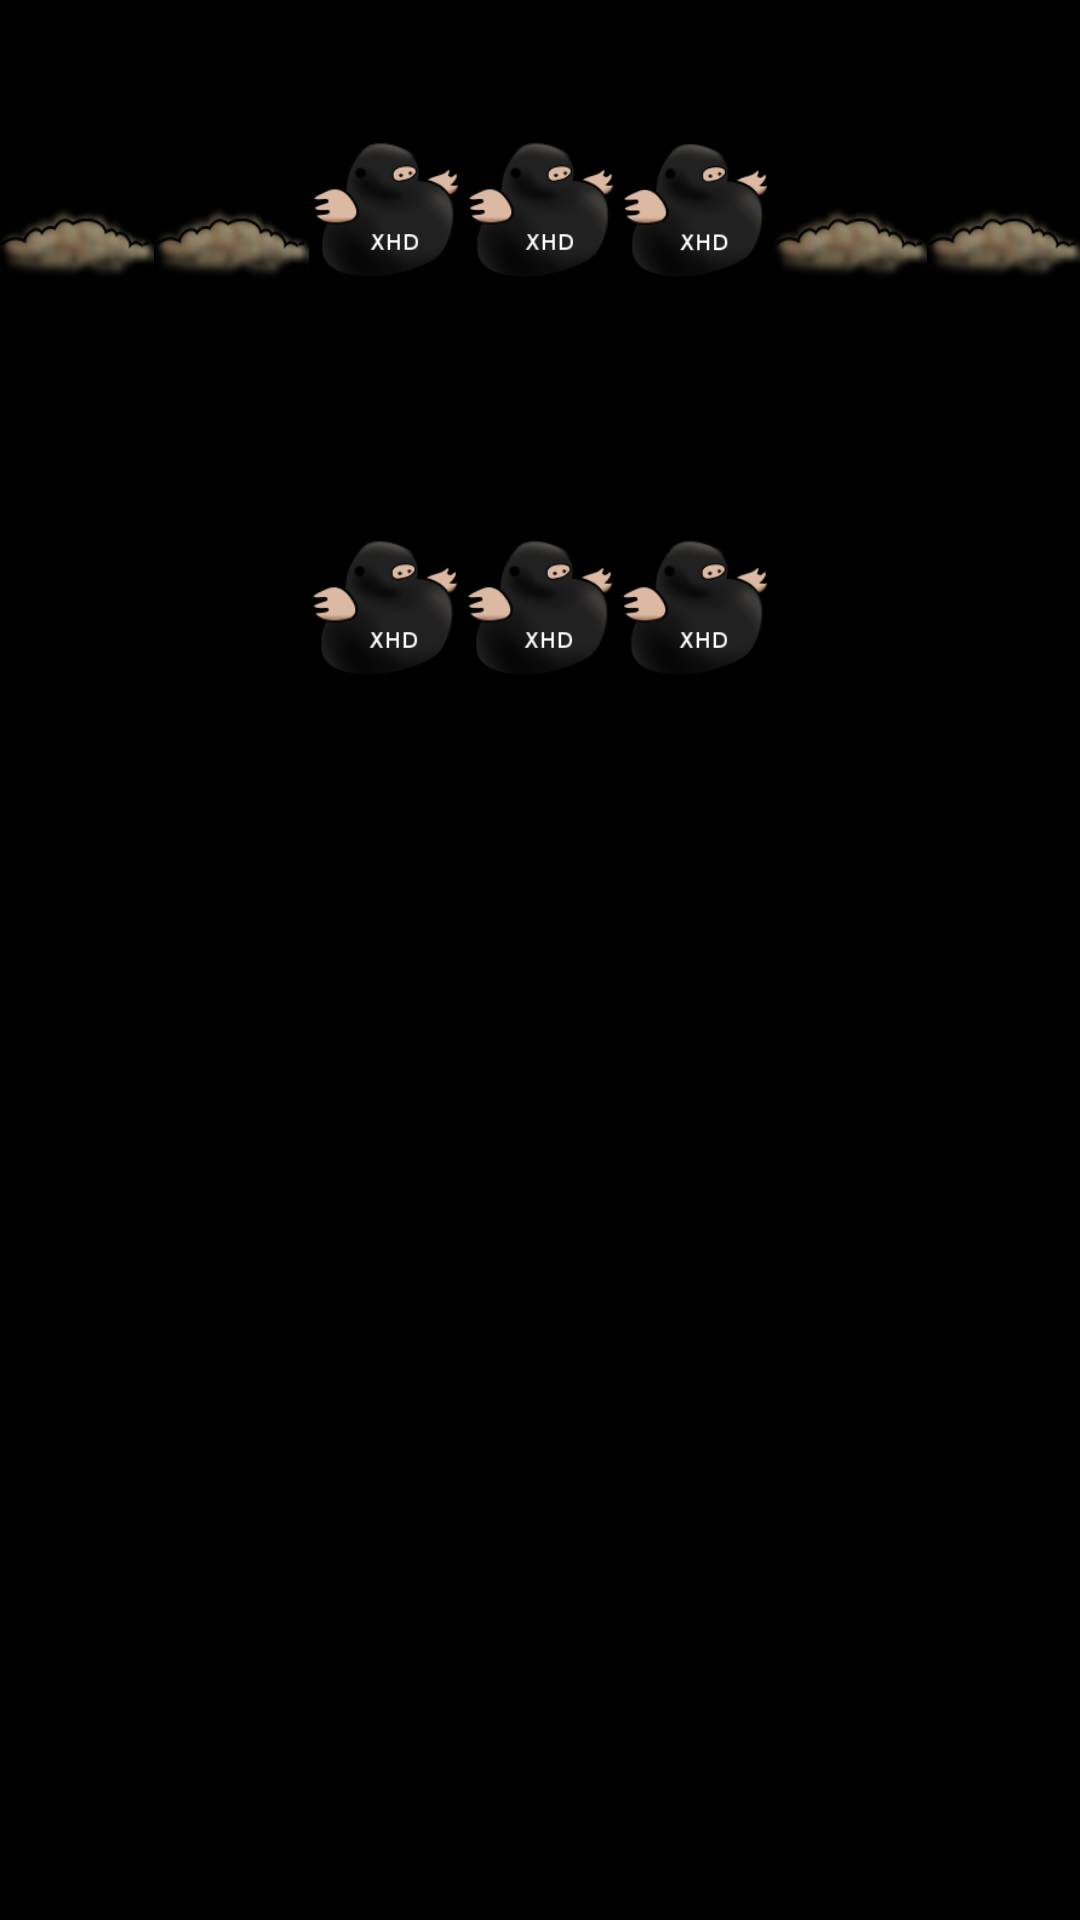

Point at icon controls on the screen. Image size 1080 × 1920, points as point (x, y).
earth: point (79, 242), point (234, 242), point (852, 242), point (1006, 242)
fatmole: point (386, 206), point (541, 206), point (695, 206), point (385, 604), point (540, 604), point (695, 604)
